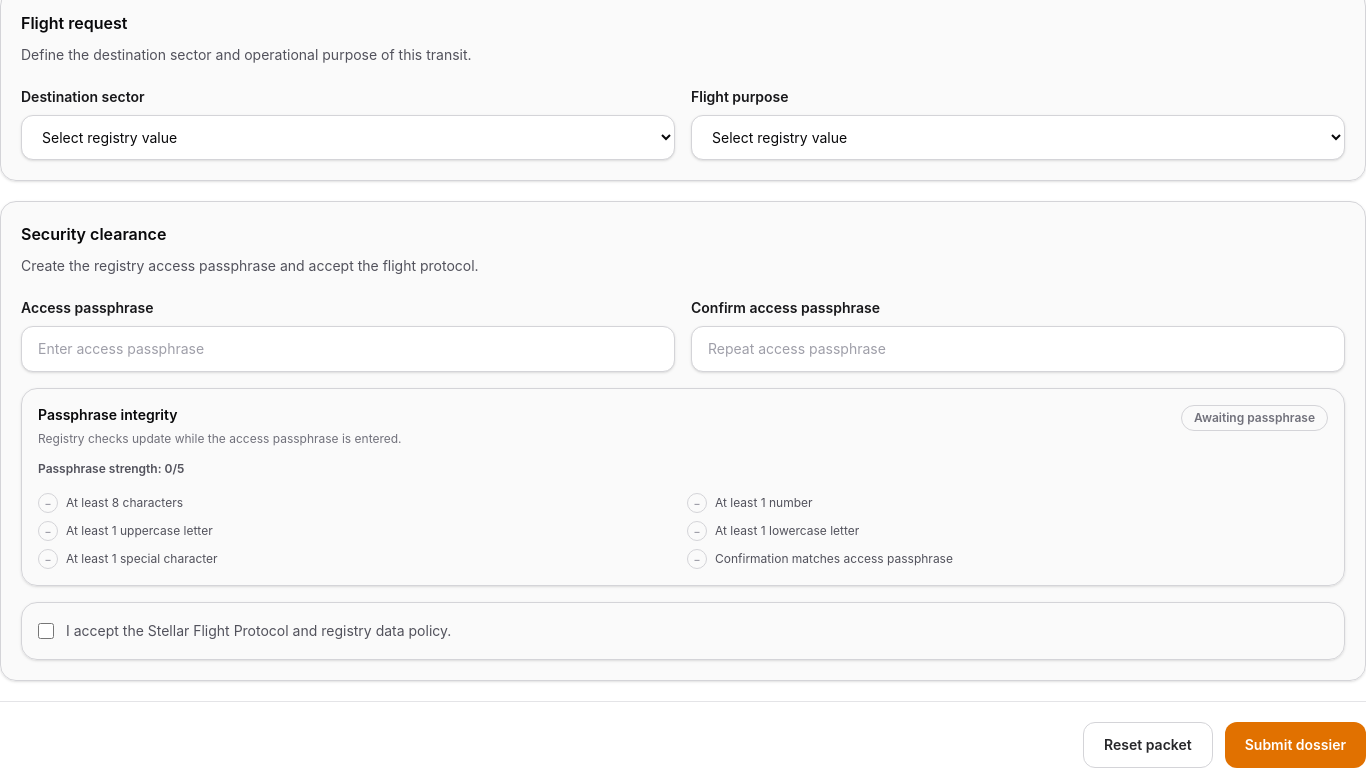
LegacyPilotIntakeForm › shows validation errors only after submit attempt
The image size is (1366, 768).
(page scrolled)
Click the button "Submit dossier" at (1295, 745), box [1225,722,1365,767]
(page scrolled)
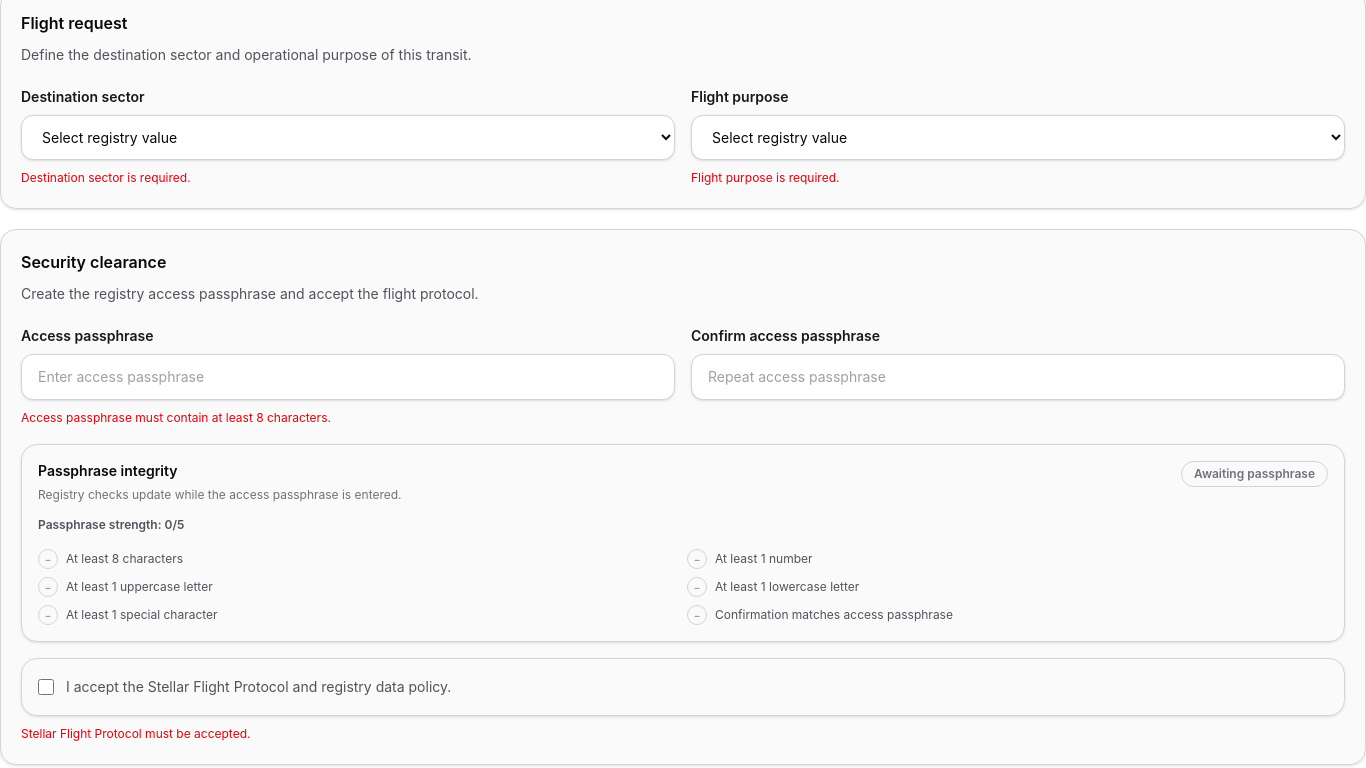
Expected: the text "Stellar Flight Protocol must be accepted." is shown, [21,726,250,741]
